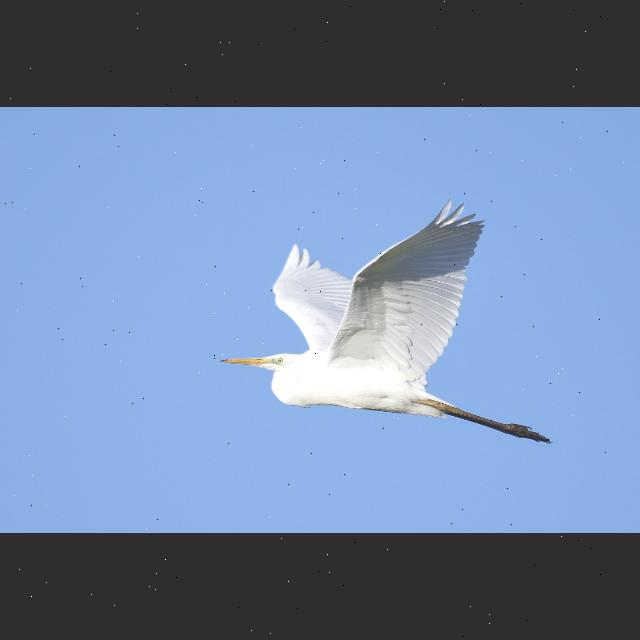egret: (214, 198, 556, 454)
